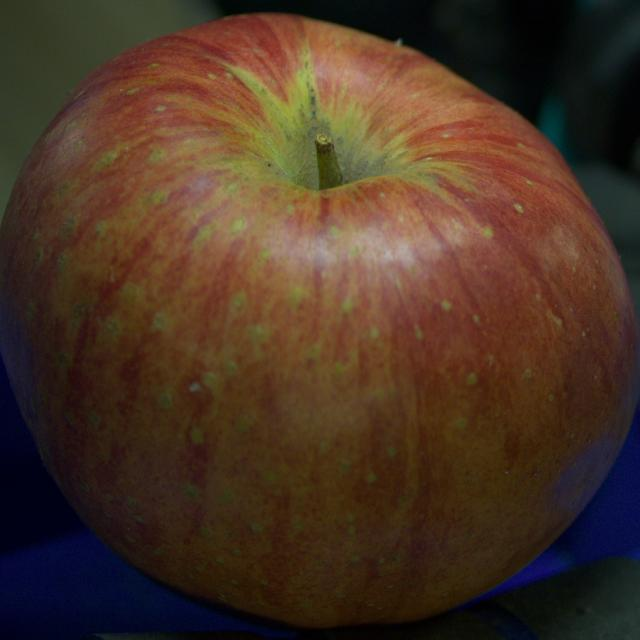apple: (0, 14, 639, 626)
